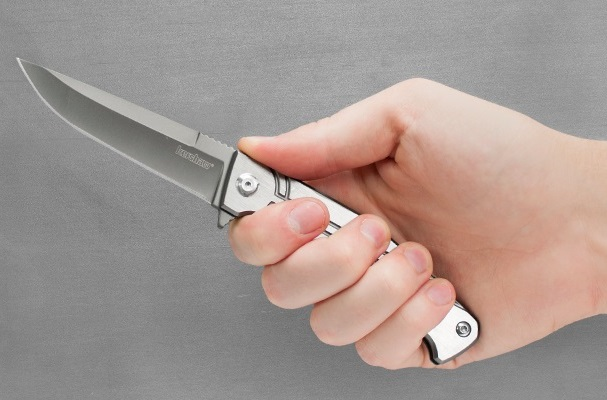knife: (10, 52, 493, 372)
